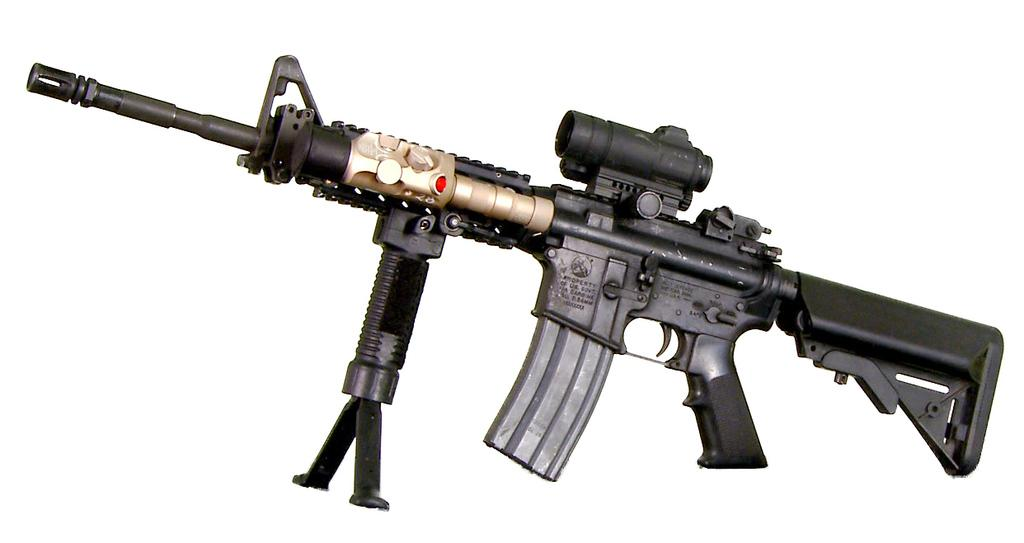Rifle: (23, 57, 1004, 508)
